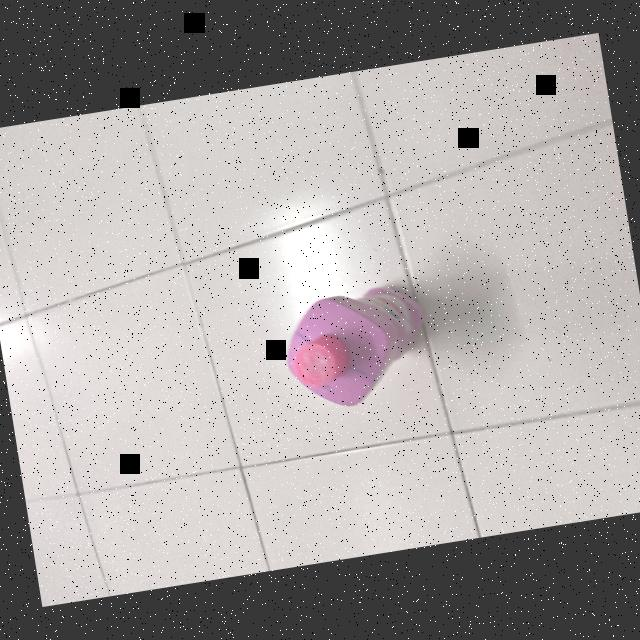chemical_plastic_bottle: (272, 277, 433, 418)
